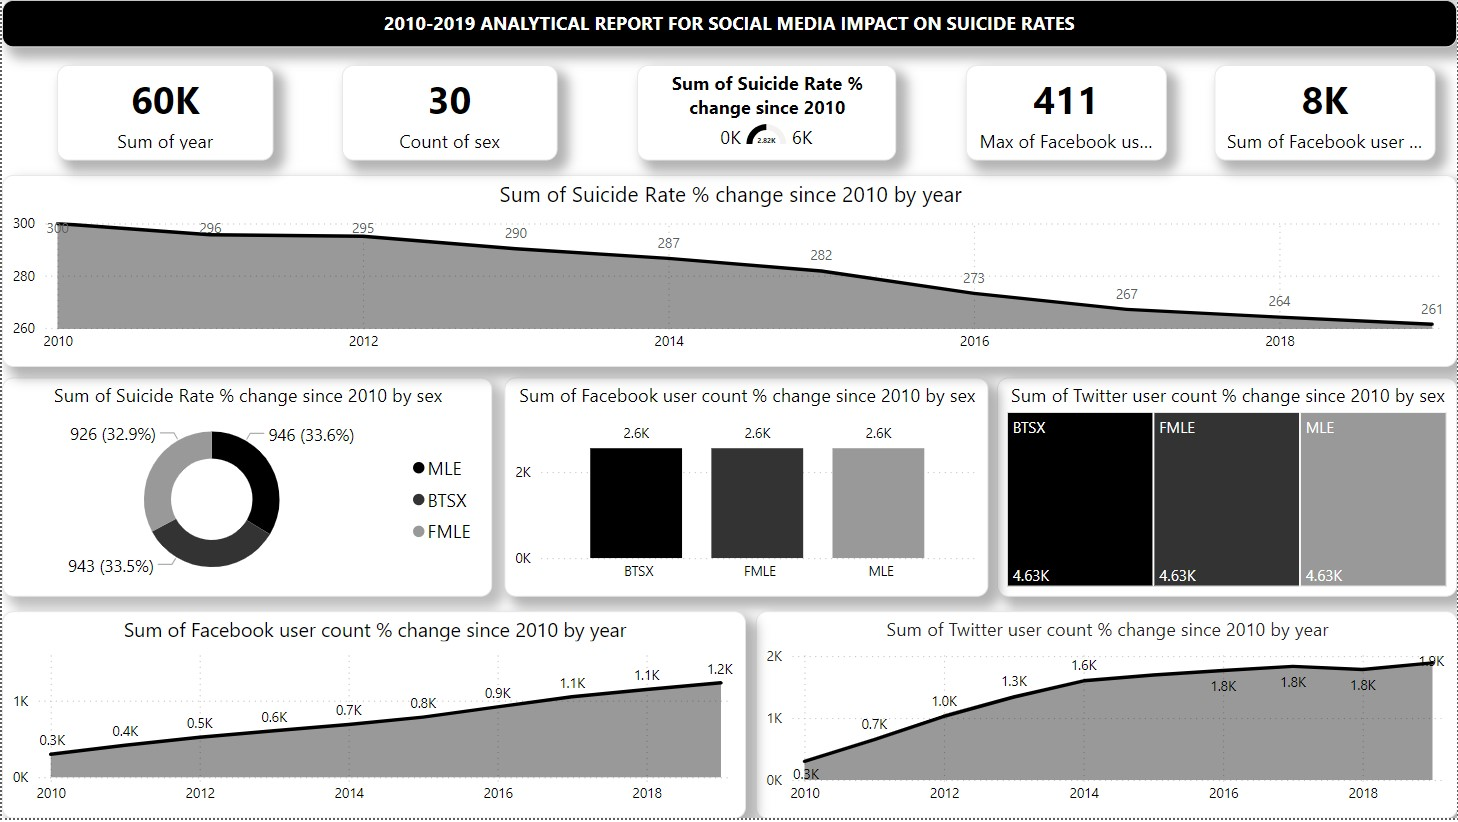

The page's visual inventory and layout, read from the dashboard file:
{"tool":"powerbi","page":{"name":"Page 1","canvas":[1280,720],"ordinal":0},"visuals":[{"type":"textbox","box":[0,0,1280.2,41.9],"z":0},{"type":"donutChart","fields":{"Category":["social-media-impact-on-suicide-rates.sex"],"Y":["Sum(social-media-impact-on-suicide-rates.Suicide Rate % change since 2010)"]},"box":[0,332.6,431.4,193],"z":1000},{"type":"treemap","fields":{"Group":["social-media-impact-on-suicide-rates.sex"],"Values":["Sum(social-media-impact-on-suicide-rates.Twitter user count % change since 2010)"]},"box":[875.6,332.6,404.7,193],"z":2000},{"type":"columnChart","fields":{"Category":["social-media-impact-on-suicide-rates.sex"],"Y":["Sum(social-media-impact-on-suicide-rates.Facebook user count % change since 2010)"]},"box":[441.9,332.6,425.6,193],"z":3000},{"type":"areaChart","fields":{"Category":["social-media-impact-on-suicide-rates.year"],"Y":["Sum(social-media-impact-on-suicide-rates.Twitter user count % change since 2010)"]},"box":[662.8,537.2,617.4,182.6],"z":4000},{"type":"areaChart","fields":{"Category":["social-media-impact-on-suicide-rates.year"],"Y":["Sum(social-media-impact-on-suicide-rates.Suicide Rate % change since 2010)"]},"box":[0,153.5,1280.2,168.6],"z":5000},{"type":"stackedAreaChart","fields":{"Category":["social-media-impact-on-suicide-rates.year"],"Y":["Sum(social-media-impact-on-suicide-rates.Facebook user count % change since 2010)"]},"box":[0,537.2,654.7,182.6],"z":6000},{"type":"card","fields":{"Values":["Sum(social-media-impact-on-suicide-rates.Facebook user count % change since 2010)"]},"box":[1066.3,57,194.2,83.7],"z":7000},{"type":"card","fields":{"Values":["CountNonNull(social-media-impact-on-suicide-rates.sex)"]},"box":[298.8,57,189.5,83.7],"z":8000},{"type":"card","fields":{"Values":["Sum(social-media-impact-on-suicide-rates.year)"]},"box":[48.8,57,190.7,83.7],"z":9000},{"type":"card","fields":{"Values":["Max(social-media-impact-on-suicide-rates.Facebook user count % change since 2010)"]},"box":[847.7,57,176.7,83.7],"z":10000},{"type":"gauge","fields":{"Y":["Sum(social-media-impact-on-suicide-rates.Suicide Rate % change since 2010)"]},"box":[558.1,57,227.9,83.7],"z":11000}]}

Visuals, with their boxes in screenshot pixels (x1, y1, x2, y2), scaled from the page's 1280x720 canvas onto the 1458x822 screenshot:
textbox: bbox=(0, 0, 1457, 48)
donutChart - social-media-impact-on-suicide-rates.sex x Sum(social-media-impact-on-suicide-rates.Suicide Rate % change since 2010): bbox=(0, 380, 491, 600)
treemap - social-media-impact-on-suicide-rates.sex x Sum(social-media-impact-on-suicide-rates.Twitter user count % change since 2010): bbox=(997, 380, 1457, 600)
columnChart - social-media-impact-on-suicide-rates.sex x Sum(social-media-impact-on-suicide-rates.Facebook user count % change since 2010): bbox=(503, 380, 988, 600)
areaChart - social-media-impact-on-suicide-rates.year x Sum(social-media-impact-on-suicide-rates.Twitter user count % change since 2010): bbox=(755, 613, 1457, 821)
areaChart - social-media-impact-on-suicide-rates.year x Sum(social-media-impact-on-suicide-rates.Suicide Rate % change since 2010): bbox=(0, 175, 1457, 368)
stackedAreaChart - social-media-impact-on-suicide-rates.year x Sum(social-media-impact-on-suicide-rates.Facebook user count % change since 2010): bbox=(0, 613, 746, 821)
card - Sum(social-media-impact-on-suicide-rates.Facebook user count % change since 2010): bbox=(1215, 65, 1436, 161)
card - CountNonNull(social-media-impact-on-suicide-rates.sex): bbox=(340, 65, 556, 161)
card - Sum(social-media-impact-on-suicide-rates.year): bbox=(56, 65, 273, 161)
card - Max(social-media-impact-on-suicide-rates.Facebook user count % change since 2010): bbox=(966, 65, 1167, 161)
gauge - Sum(social-media-impact-on-suicide-rates.Suicide Rate % change since 2010): bbox=(636, 65, 895, 161)
